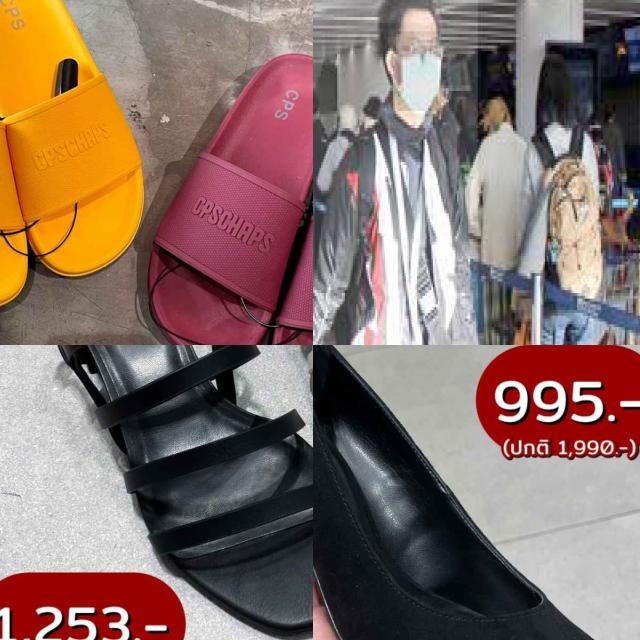Sandals: (313, 345, 640, 640), (0, 345, 313, 640), (132, 13, 313, 345), (0, 0, 160, 329)
face_mask: (398, 31, 439, 114)
head_nohelmet: (378, 0, 439, 25)
person: (313, 0, 479, 345)
